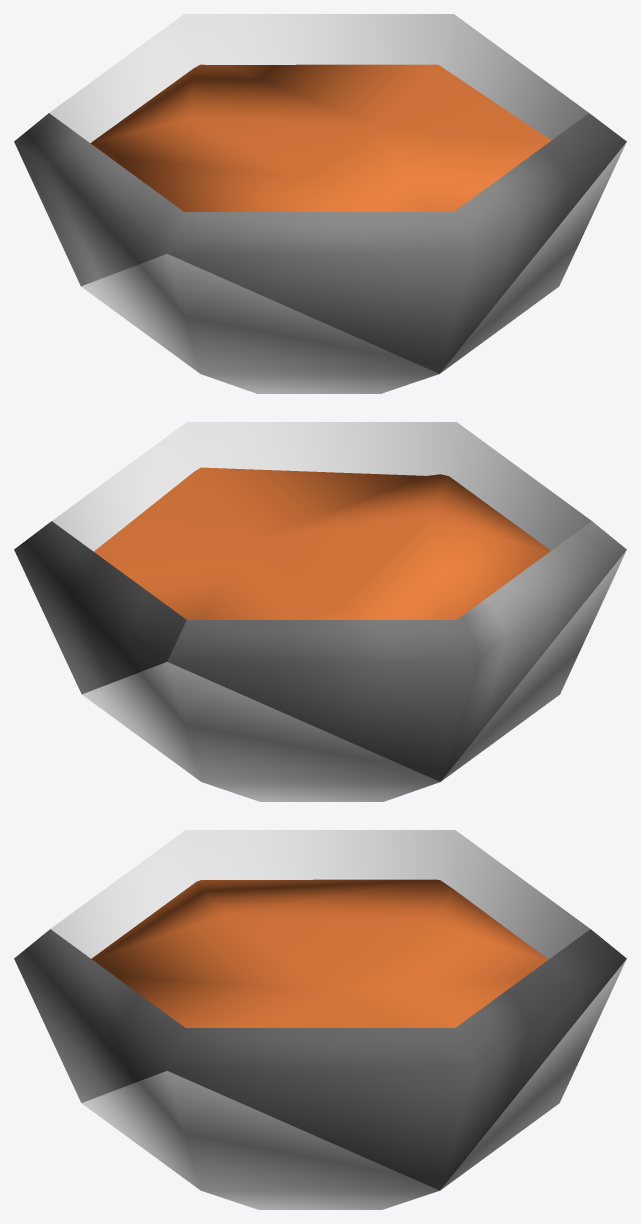
File: boneBroth.glb
3 views of the same model, one above another, from view 1: azimuth 30°, elevation 25°; view 2: azimuth 150°, elevation 25°; view 3: azimuth 270°, elevation 25° (orthographic).
Parts seen in each view (by area): view 1: Bowl, BowlStuff; view 2: Bowl, BowlStuff; view 3: Bowl, BowlStuff.
Boxes of the visible parts, x1=… form: Bowl: x1=14, y1=14, x2=626, y2=393; BowlStuff: x1=90, y1=64, x2=551, y2=211; Bowl: x1=14, y1=422, x2=626, y2=801; BowlStuff: x1=94, y1=467, x2=550, y2=619; Bowl: x1=14, y1=830, x2=626, y2=1209; BowlStuff: x1=91, y1=879, x2=548, y2=1027.
Bounding box in the file's own units: 0.2467 × 0.1207 × 0.2849.
4 materials, 1 textured.
